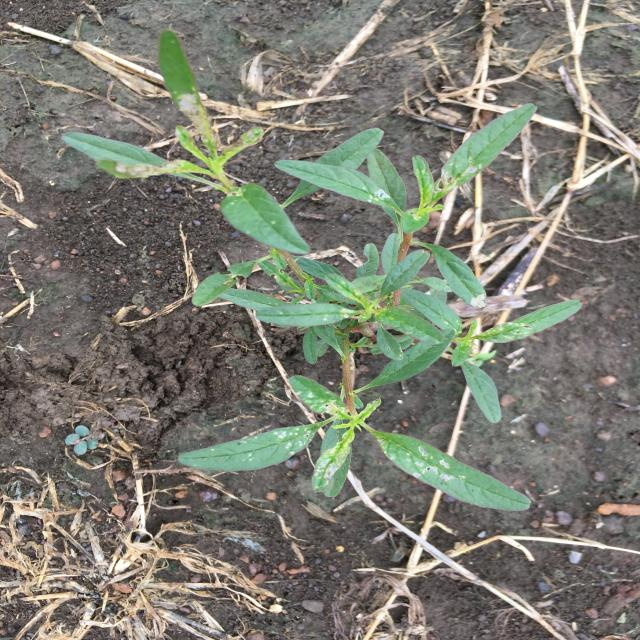Waterhemp: (61, 29, 583, 511)
